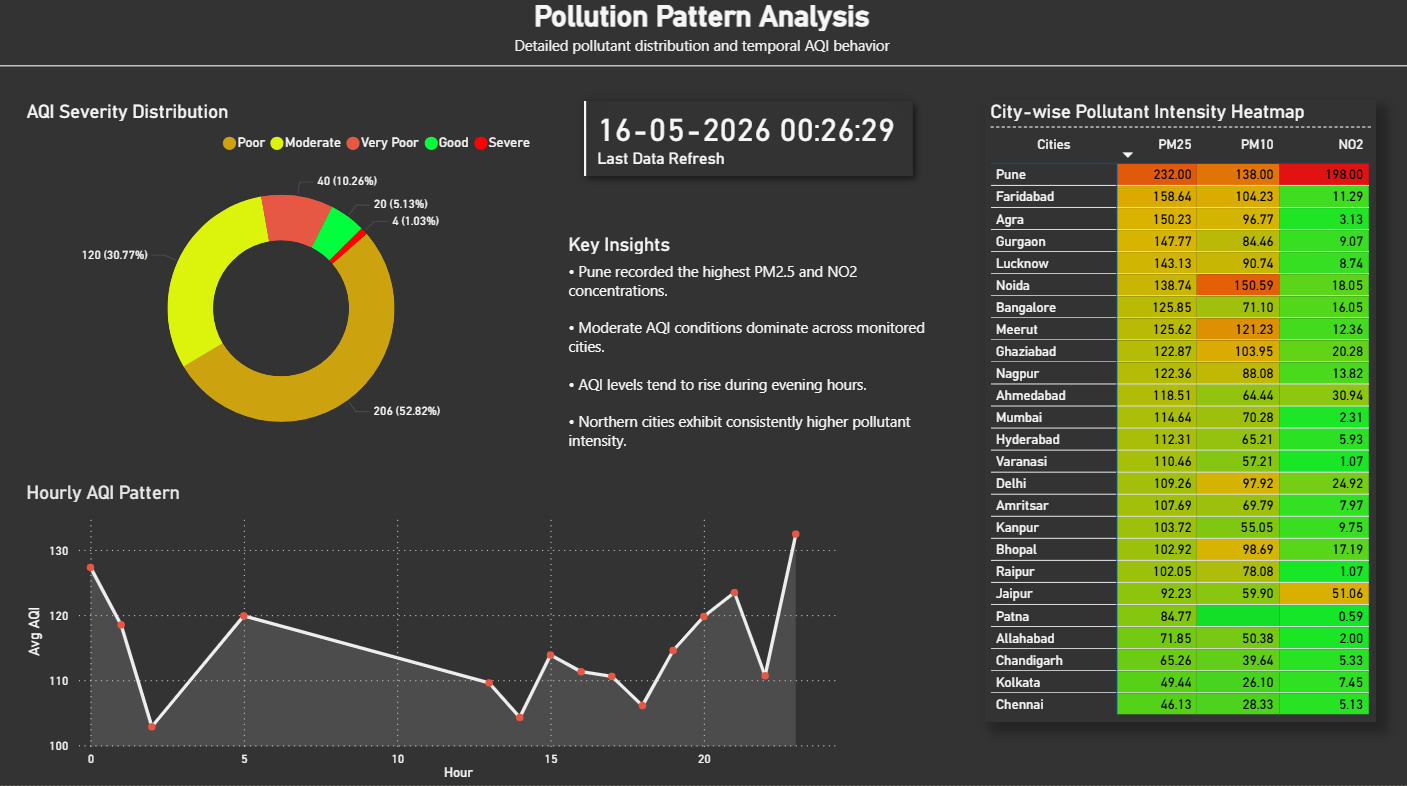

Layout of this report page (visuals, bound fields, positions):
{"tool":"powerbi","page":{"name":"Pattern Exploration","canvas":[1280,720],"ordinal":1},"visuals":[{"type":"textbox","title":"Pollution Pattern Analysis","box":[0,6.3,1280.4,64.4],"z":0},{"type":"donutChart","title":"AQI Severity Distribution","fields":{"Category":["aqi_data.aqi_category"],"Y":["CountNonNull(aqi_data.aqi_category)"]},"box":[22.7,98.8,471.5,330.1],"z":1000},{"type":"pivotTable","title":"City-wise Pollutant Intensity Heatmap","fields":{"Values":["Avg(aqi_data.pm25)","Avg(aqi_data.pm10)","Avg(aqi_data.no2)"],"Rows":["aqi_data.city"]},"box":[896.8,98.8,355.5,564],"z":2000},{"type":"lineChart","title":"Hourly AQI Pattern","fields":{"Y":["aqi_data.avg_aqi"],"Category":["aqi_data.hour"]},"box":[22.7,444.3,745.4,225.8],"z":2001},{"type":"textbox","title":"Key Insights","box":[514.2,212.2,336.4,232.1],"z":2002},{"type":"cardVisual","fields":{"Data":["aqi_data.last_refresh"]},"box":[528.7,70.7,307.4,126],"z":2003}]}

Visuals, with their boxes in screenshot pixels (x1, y1, x2, y2), scaled from the page's 1280x720 canvas onto the 1407x786 screenshot:
"Pollution Pattern Analysis" textbox: select_region(0, 7, 1406, 77)
"AQI Severity Distribution" donutChart: select_region(25, 108, 543, 468)
"City-wise Pollutant Intensity Heatmap" pivotTable: select_region(986, 108, 1377, 724)
"Hourly AQI Pattern" lineChart: select_region(25, 485, 844, 732)
"Key Insights" textbox: select_region(565, 232, 935, 485)
cardVisual - aqi_data.last_refresh: select_region(581, 77, 919, 215)
